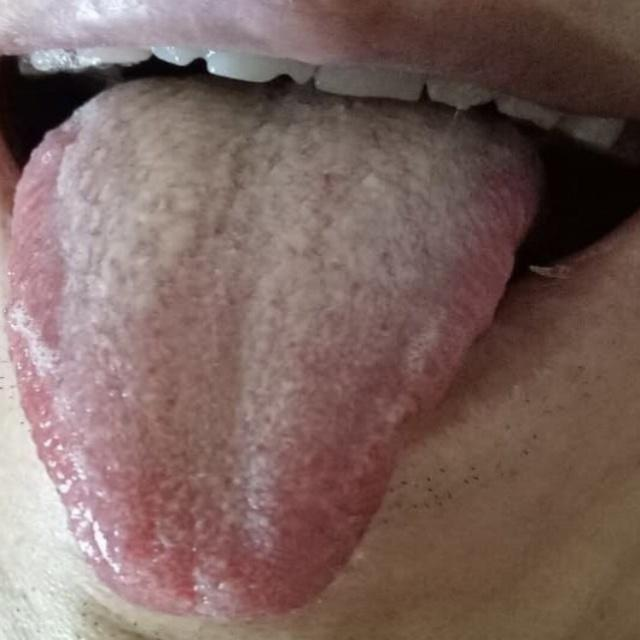baitaishe: (6, 78, 544, 621)
